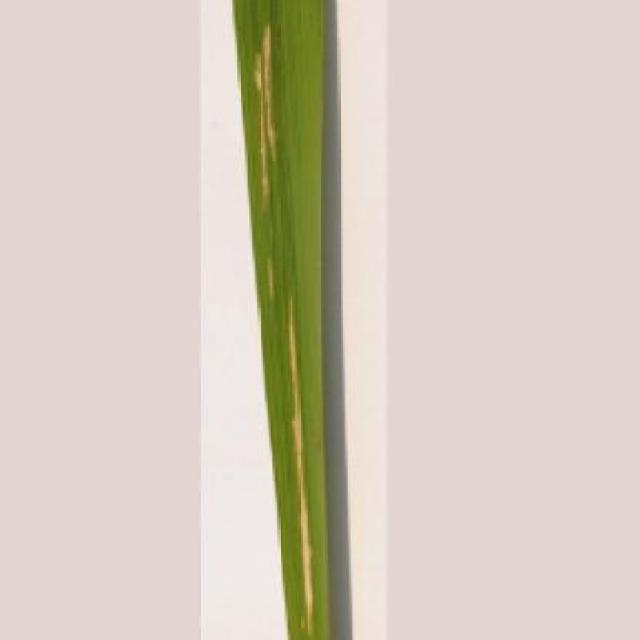Brown_Spot: (231, 0, 337, 640)
